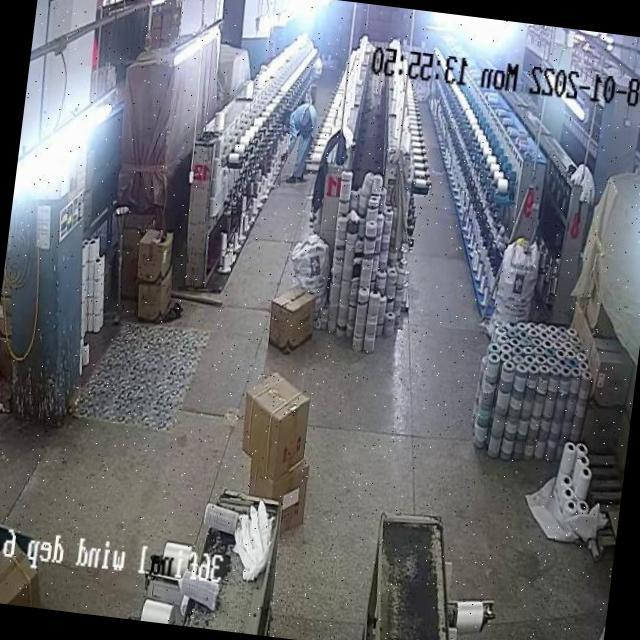person: (276, 99, 322, 188)
